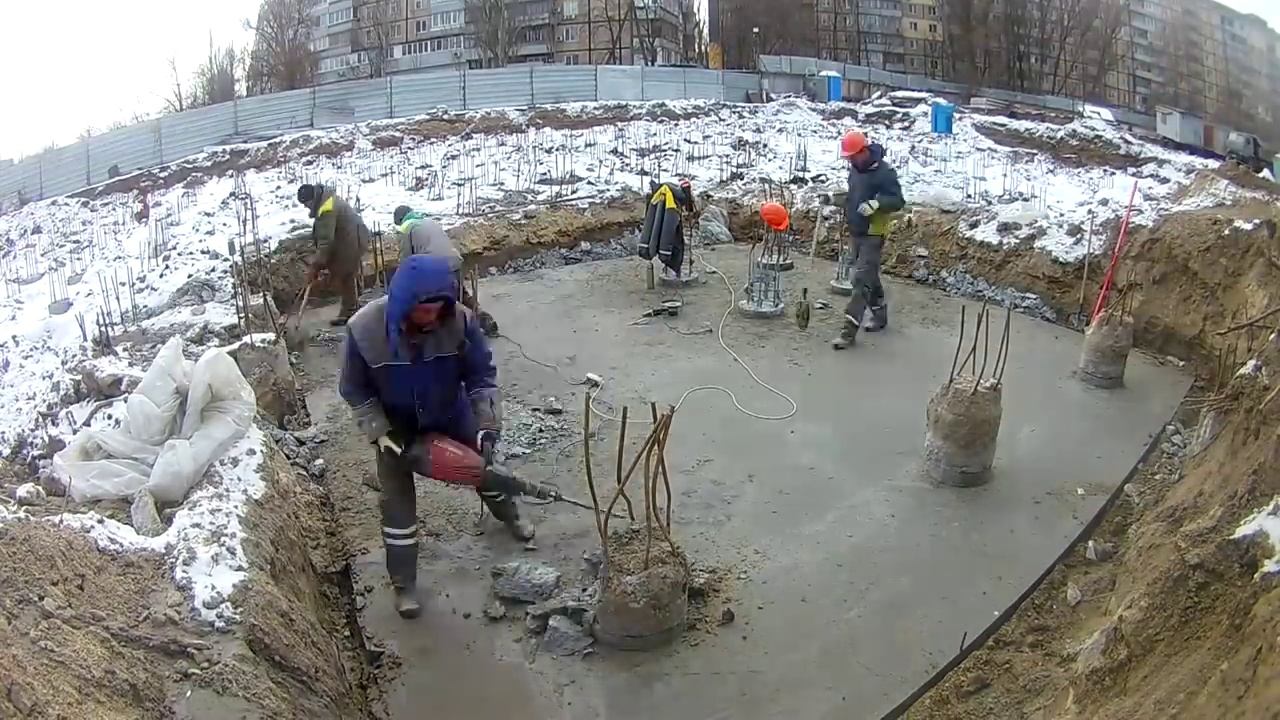helmet: (759, 205, 789, 232), (841, 132, 867, 157)
helmet-off: (382, 252, 463, 353), (297, 184, 331, 215)
helmet-on: (841, 128, 884, 173)
person: (342, 251, 535, 617), (823, 125, 904, 353), (294, 184, 371, 326), (392, 204, 460, 281)
